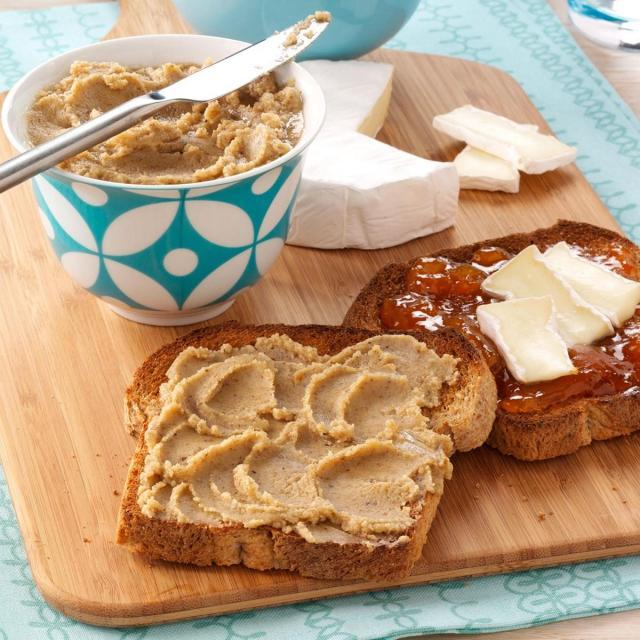Spread: (166, 357, 415, 519), (432, 259, 640, 389)
